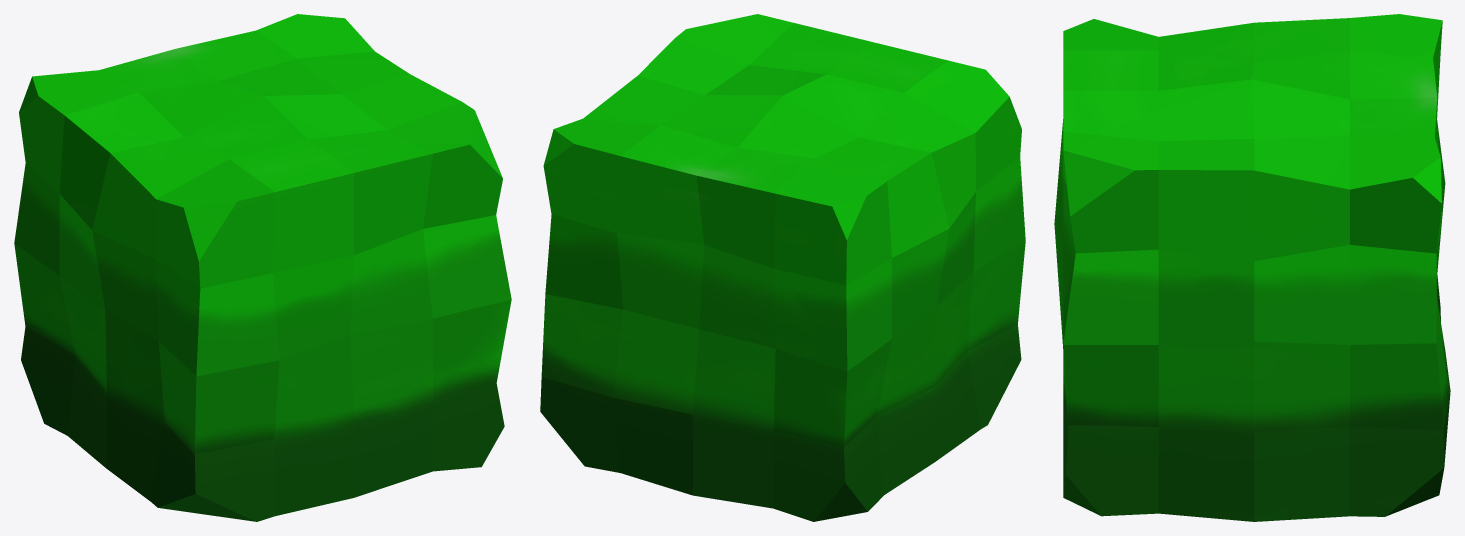
File: leaves.glb
The picture shows the model from 3 angles, left to right: view 1: azimuth 30°, elevation 25°; view 2: azimuth 150°, elevation 25°; view 3: azimuth 270°, elevation 25°; orthographic projection. The views are drawn at different scales.
Visible parts, largest first — view 1: Cube; view 2: Cube; view 3: Cube.
Part boxes in pixels (<box>): Cube: <box>14,14,511,521</box>; Cube: <box>540,14,1025,521</box>; Cube: <box>1054,14,1450,521</box>.
Size of the model in its own units: 1.07 by 1.05 by 1.04.
Materials: 1 (1 with a texture image).
